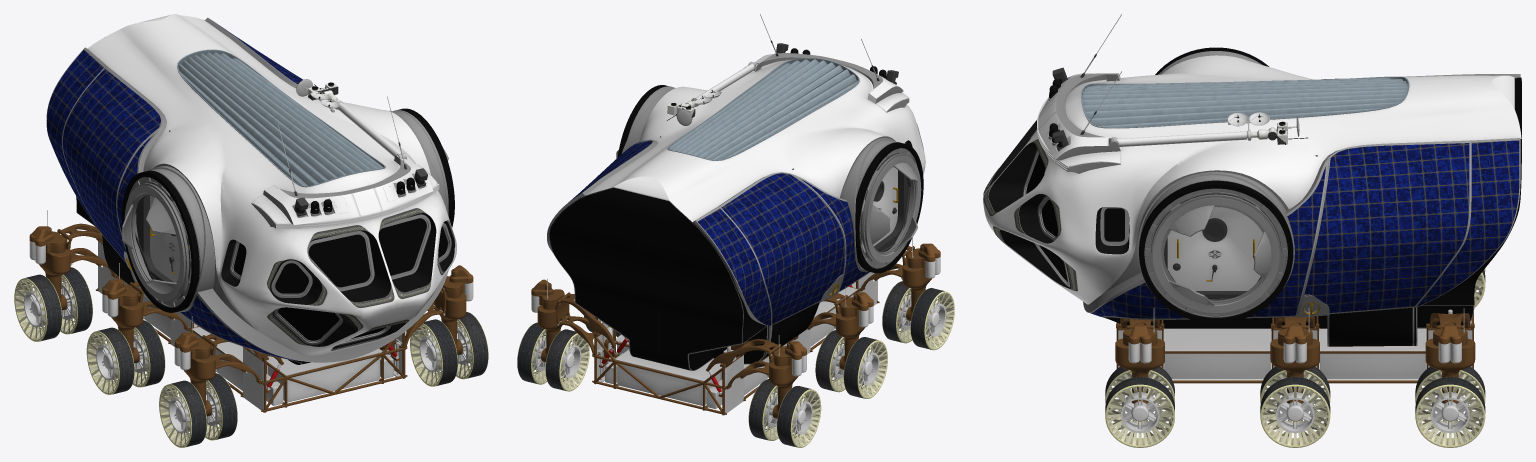
The model's file is Space_Exploration_Vehicle.glb.
3 views of the same model, side by side, from view 1: azimuth 30°, elevation 25°; view 2: azimuth 150°, elevation 25°; view 3: azimuth 270°, elevation 25° (orthographic). The views are drawn at different scales.
Parts seen in each view (by area): view 1: MMSEV; view 2: MMSEV; view 3: MMSEV.
Part boxes in pixels (bbox=[...]): MMSEV: bbox=[14, 14, 488, 447]; MMSEV: bbox=[517, 14, 954, 447]; MMSEV: bbox=[983, 14, 1521, 447].
Bounding box in the file's own units: 4.04 × 3.97 × 5.91.
Materials: 1 (1 with a texture image).
